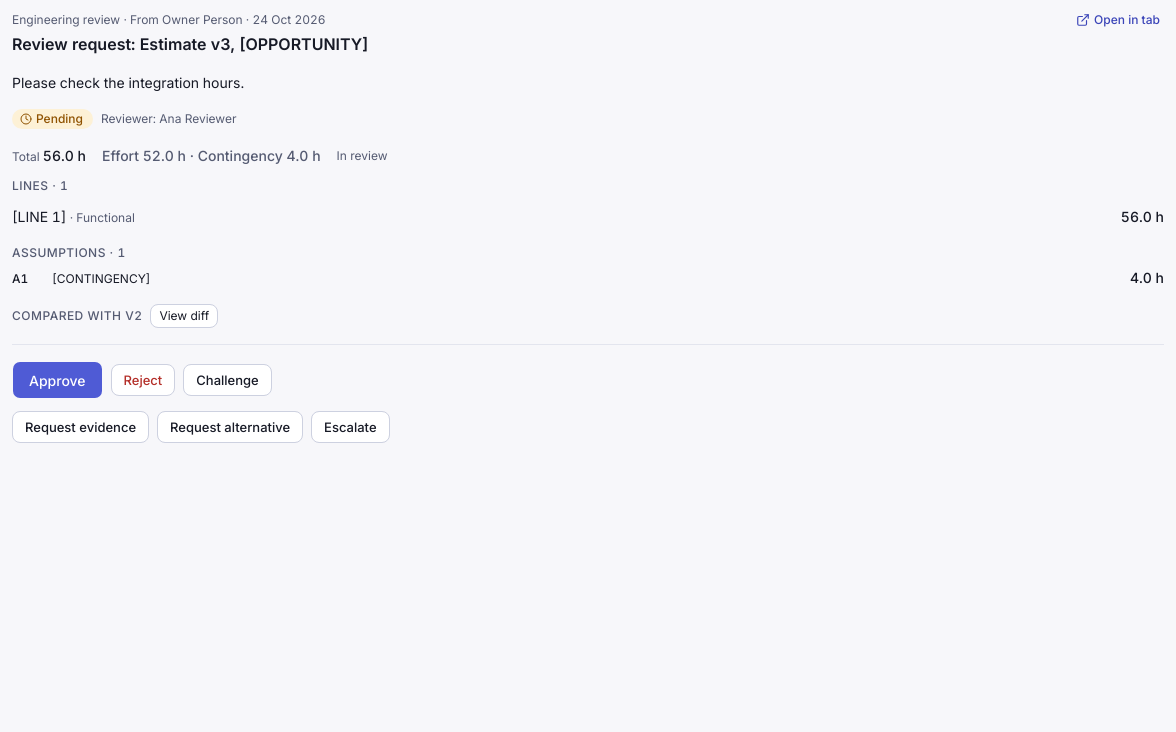
it: ReviewPanelView › Request evidence reveals its reason
Click the button "Request evidence" at point(81, 427), box [12,411,149,443]
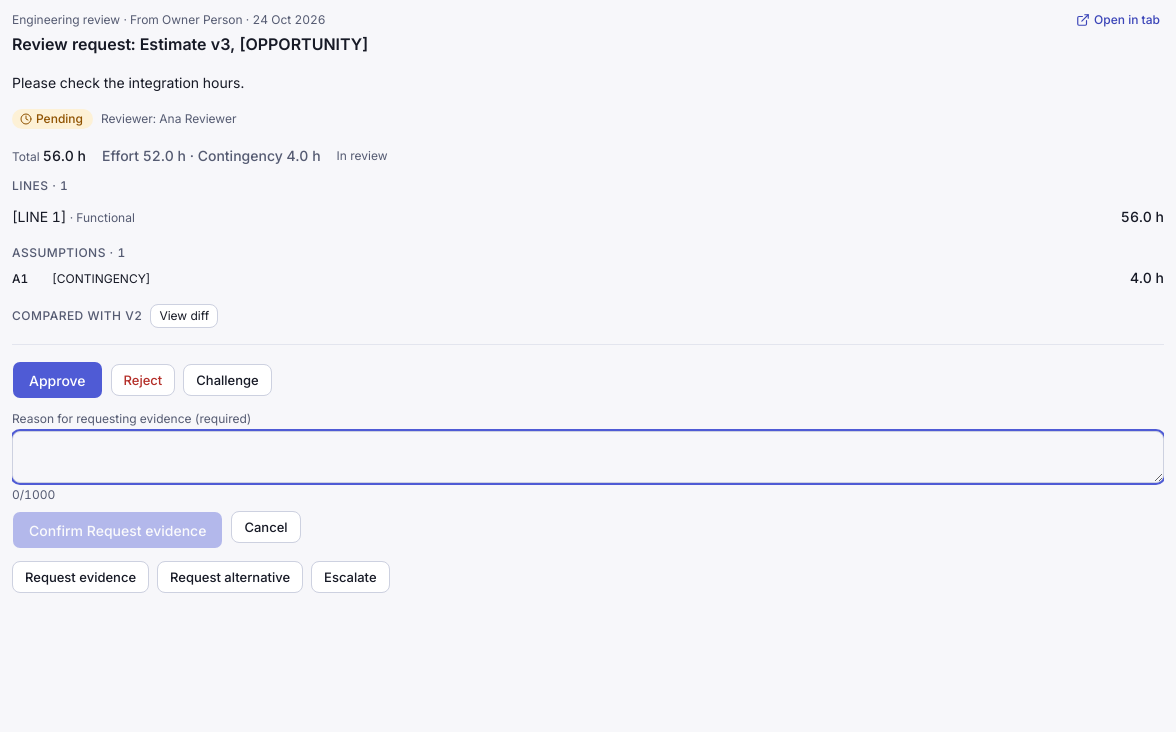
Expected: the text box labelled "Reason for requesting evidence (required)" is shown, [12,431,1164,483]
Expected: the button "Confirm Request evidence" is disabled, [12,511,223,549]
